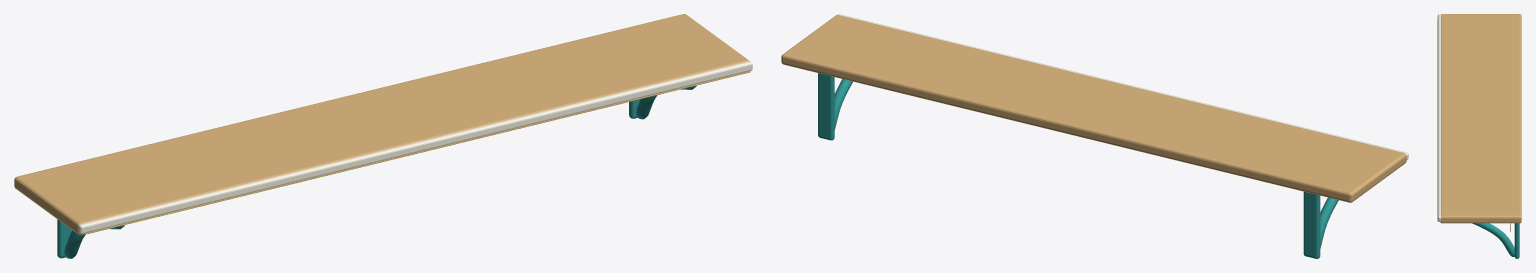
The model's file is shelf_medium_wide.glb.
3 views of the same model, side by side, from view 1: azimuth 30°, elevation 25°; view 2: azimuth 150°, elevation 25°; view 3: azimuth 270°, elevation 25° (orthographic). The views are drawn at different scales.
Parts seen in each view (by area): view 1: Wood_shelf_plank, Cream_front_lip, Fine_brass_inlay; view 2: Wood_shelf_plank, Bracket_wall_plate, Bracket_wall_plate.001, Cream_front_lip, Curved_botanical_bracket.001, Curved_botanical_bracket; view 3: Wood_shelf_plank, Cream_front_lip, Curved_botanical_bracket.001, Bracket_wall_plate.001, Fine_brass_inlay.
Part boxes in pixels (left/top/right/bottom): Wood_shelf_plank: left=14, top=14, right=749, bottom=234; Cream_front_lip: left=78, top=61, right=752, bottom=234; Fine_brass_inlay: left=84, top=71, right=750, bottom=234; Wood_shelf_plank: left=781, top=15, right=1406, bottom=202; Bracket_wall_plate: left=1303, top=191, right=1320, bottom=258; Bracket_wall_plate.001: left=818, top=73, right=834, bottom=140; Cream_front_lip: left=837, top=14, right=1408, bottom=160; Curved_botanical_bracket.001: left=834, top=79, right=852, bottom=129; Curved_botanical_bracket: left=1320, top=197, right=1338, bottom=248; Wood_shelf_plank: left=1440, top=14, right=1521, bottom=223; Cream_front_lip: left=1437, top=14, right=1441, bottom=221; Curved_botanical_bracket.001: left=1472, top=223, right=1514, bottom=256; Bracket_wall_plate.001: left=1514, top=223, right=1519, bottom=258; Fine_brass_inlay: left=1437, top=20, right=1437, bottom=221.
Size of the model in its own units: 2 by 0.255 by 0.3515.
